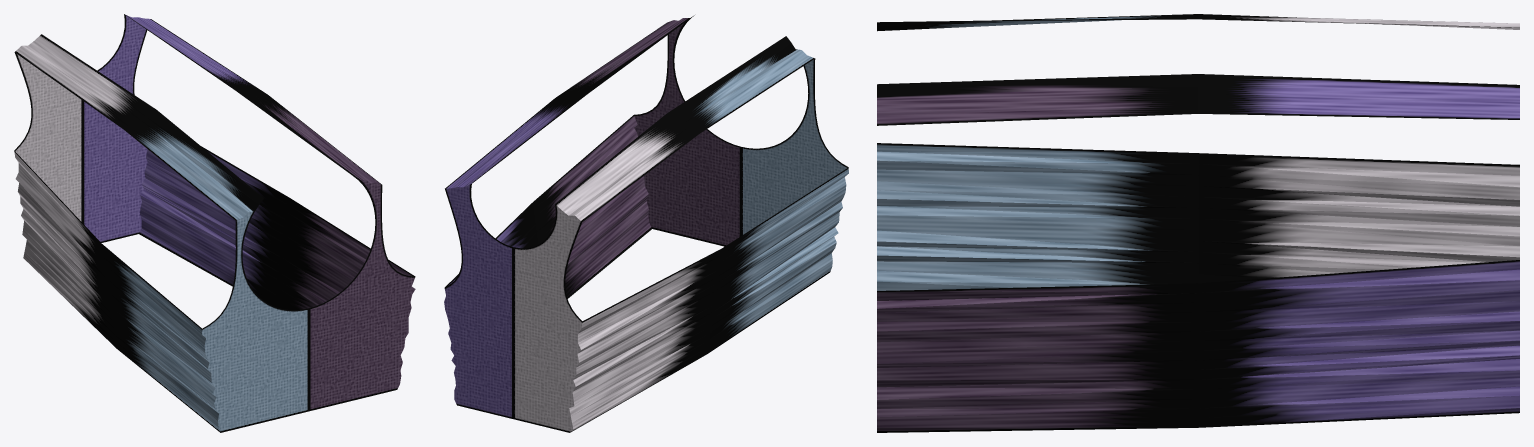
Rendered from tank_knit_gap2_boxmesh.obj.
3 views of the same model, side by side, from view 1: azimuth 30°, elevation 25°; view 2: azimuth 150°, elevation 25°; view 3: azimuth 270°, elevation 25° (orthographic). The views are drawn at different scales.
Bounding box in the file's own units: 30 × 30.92 × 55.
Materials: 1 (1 with a texture image).
